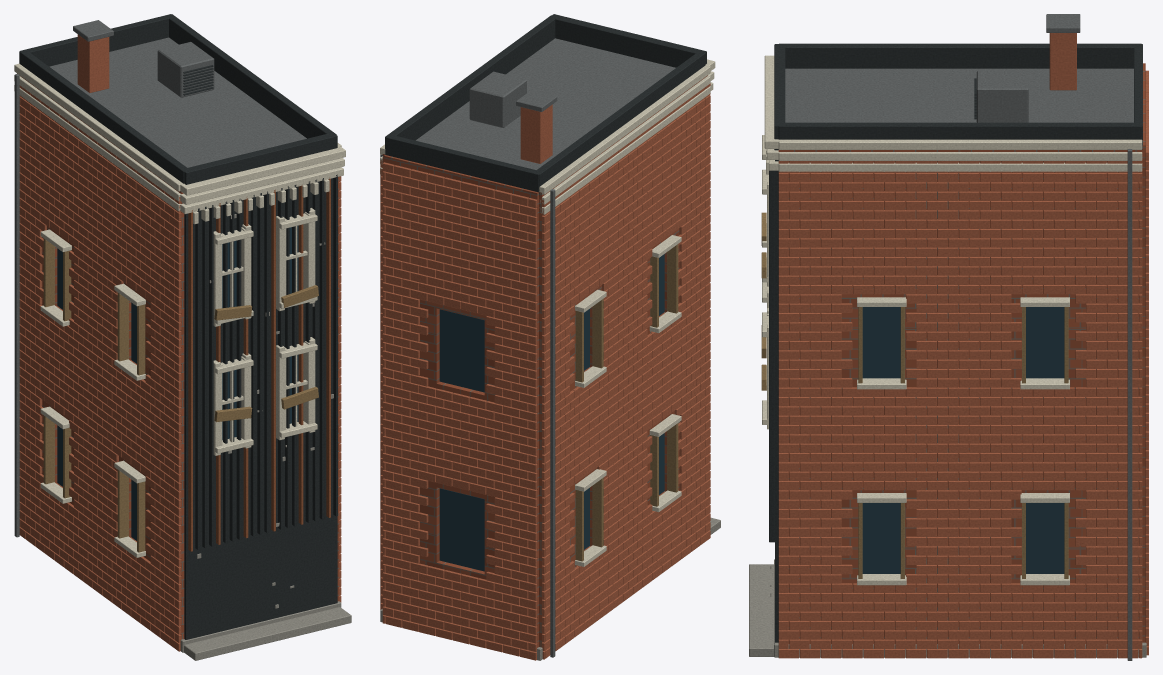
Rendered from WRHS8_lod0.glb.
The picture shows the model from 3 angles, left to right: view 1: azimuth 30°, elevation 25°; view 2: azimuth 150°, elevation 25°; view 3: azimuth 270°, elevation 25°; orthographic projection. The views are drawn at different scales.
Visible parts, largest first — view 1: WRHS8_LOD0; view 2: WRHS8_LOD0; view 3: WRHS8_LOD0.
Boxes of the visible parts, x1,y1,x2,y2 form: WRHS8_LOD0: [14, 14, 351, 660]; WRHS8_LOD0: [380, 14, 720, 660]; WRHS8_LOD0: [749, 14, 1148, 660].
Bounding box in the file's own units: 3.71 × 10.45 × 6.6.
Materials: 12 (10 with a texture image).
